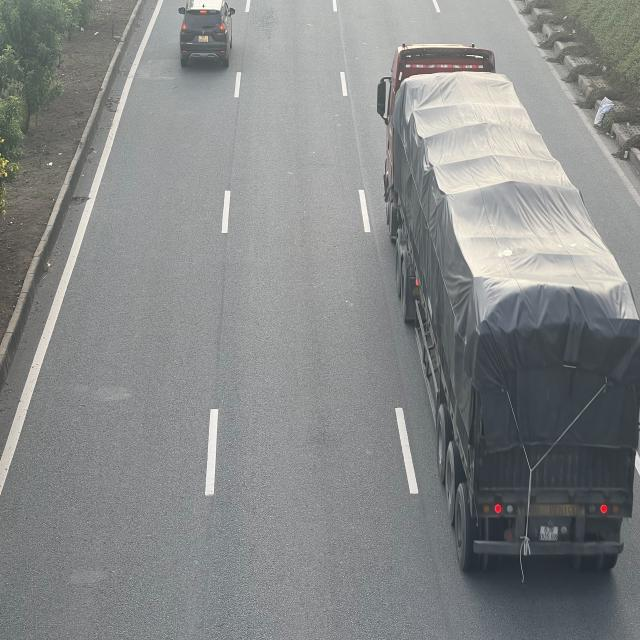car: (178, 0, 236, 67)
container: (378, 40, 638, 582)
